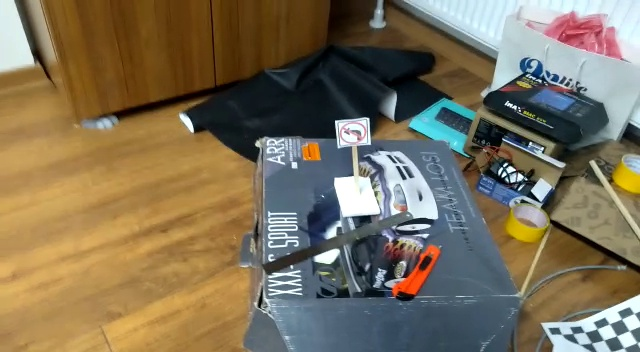sola_donulmez: (337, 119, 368, 146)
